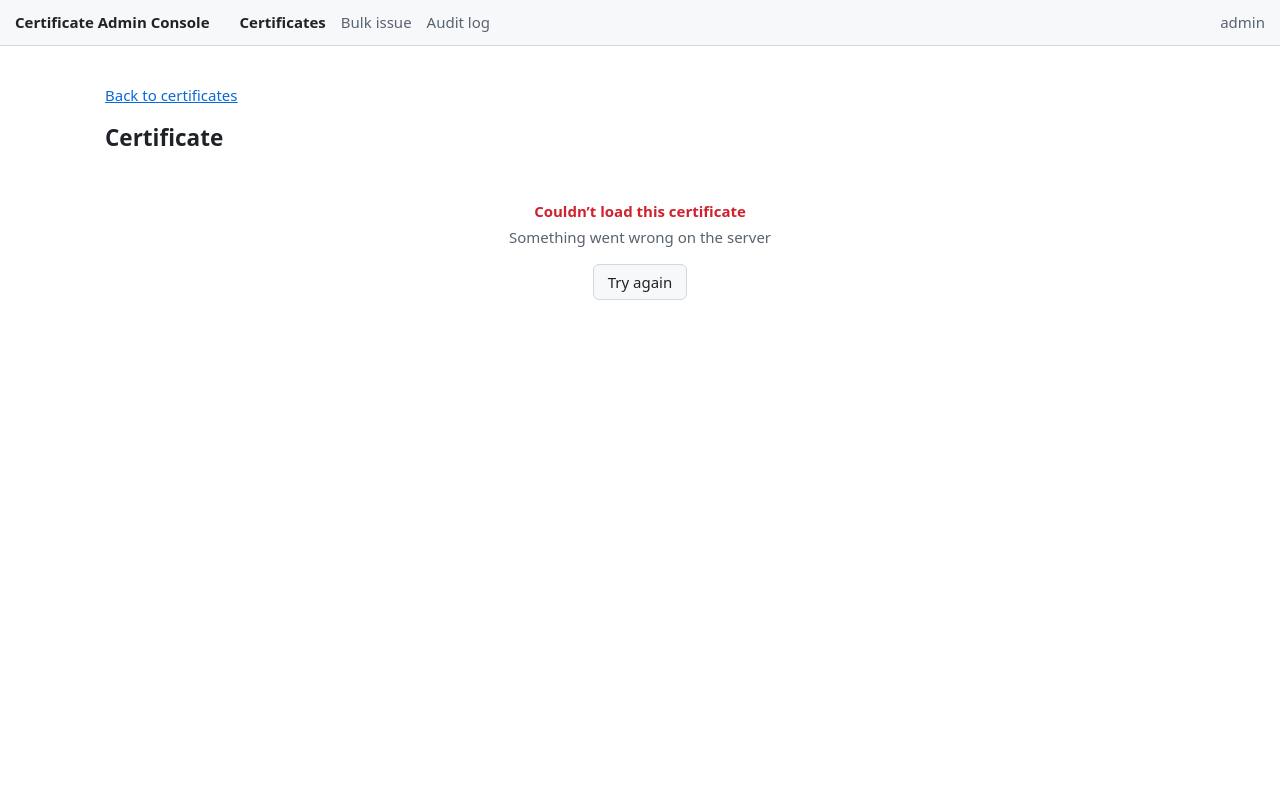
Test: CertificateDetailPage › shows other errors with a retry
expect the message shows "Couldn’t load this certificate": met, box [534,201,746,221]
Click the button "Try again".
click(640, 282)  # box [593,264,687,300]
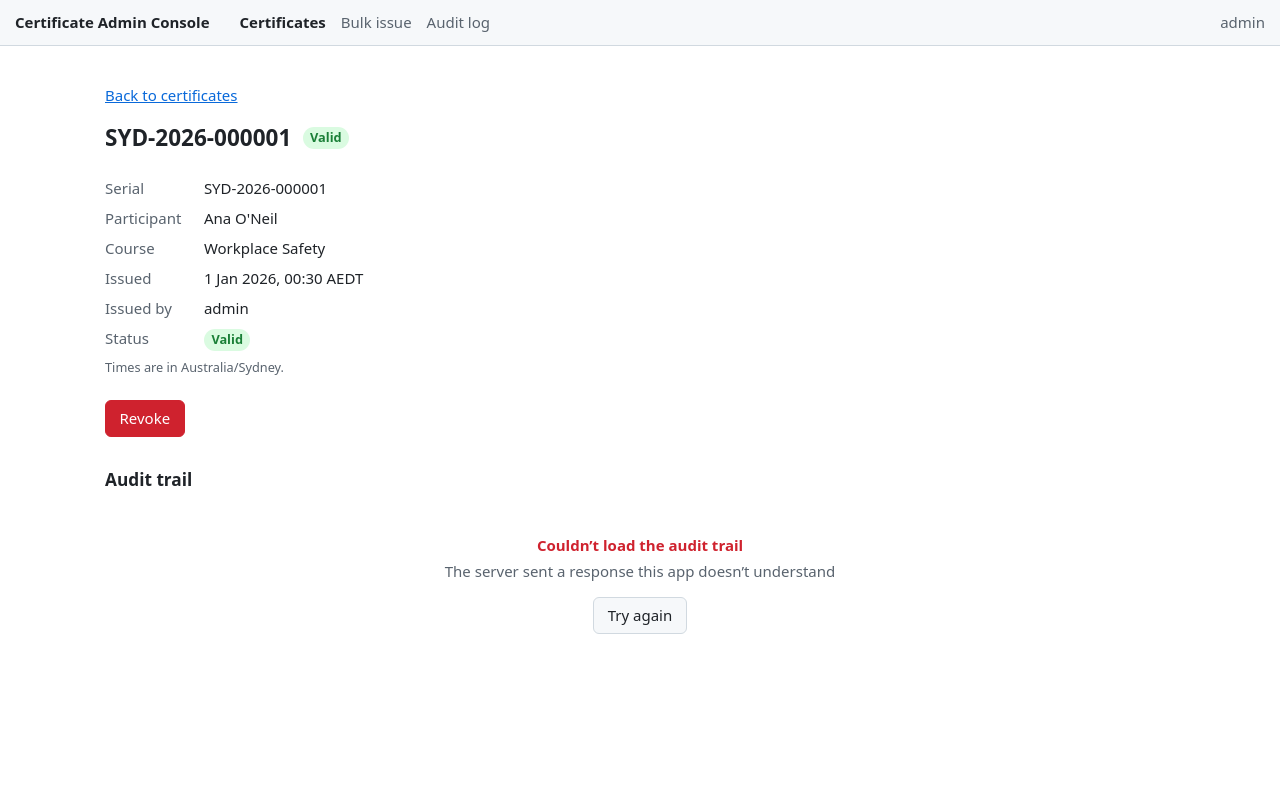
expect the heading "SYD-2026-000001" is shown: met, box [105,121,291,155]
